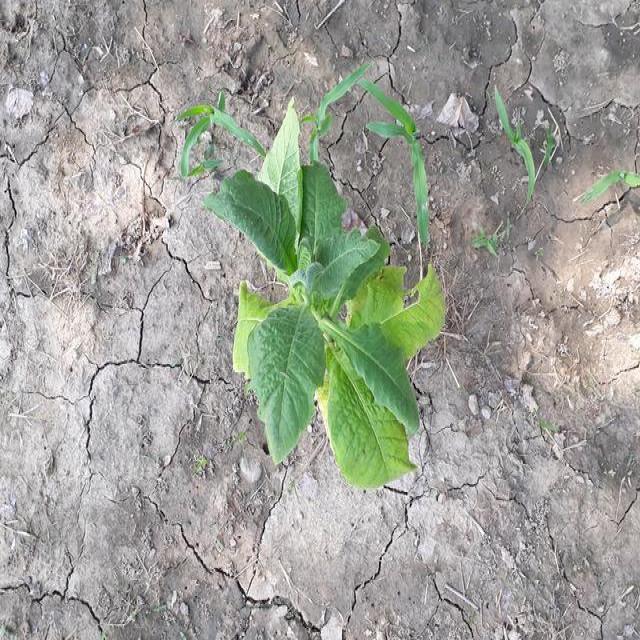crop: (228, 103, 454, 495)
